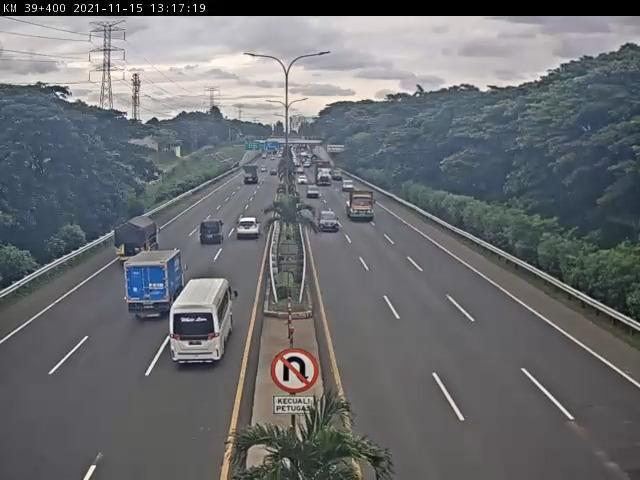bus: (169, 276, 239, 367)
car: (199, 218, 225, 249), (237, 214, 263, 240), (319, 208, 344, 235)
truck: (125, 247, 186, 316), (116, 216, 163, 268), (344, 189, 379, 223)
